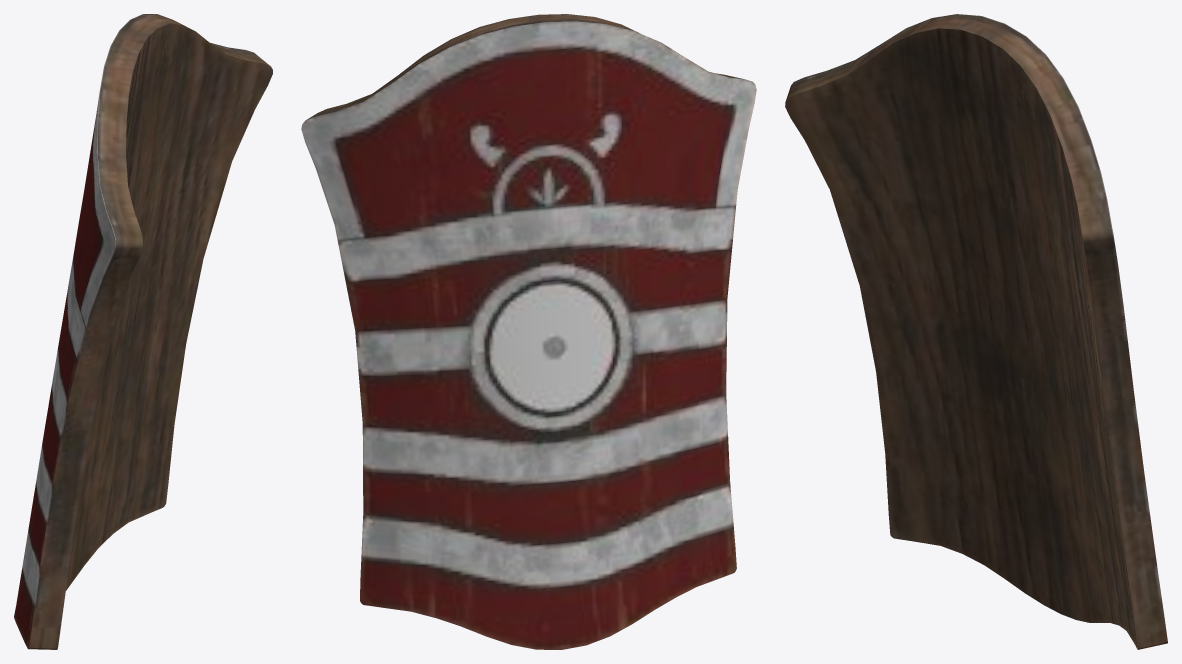
Rendered from shield-bronzeshields.glb.
The picture shows the model from 3 angles, left to right: view 1: azimuth 30°, elevation 25°; view 2: azimuth 150°, elevation 25°; view 3: azimuth 270°, elevation 25°; orthographic projection. The views are drawn at different scales.
Size of the model in its own units: 0.4269 by 0.7209 by 0.4102.
1 material, 1 textured.
